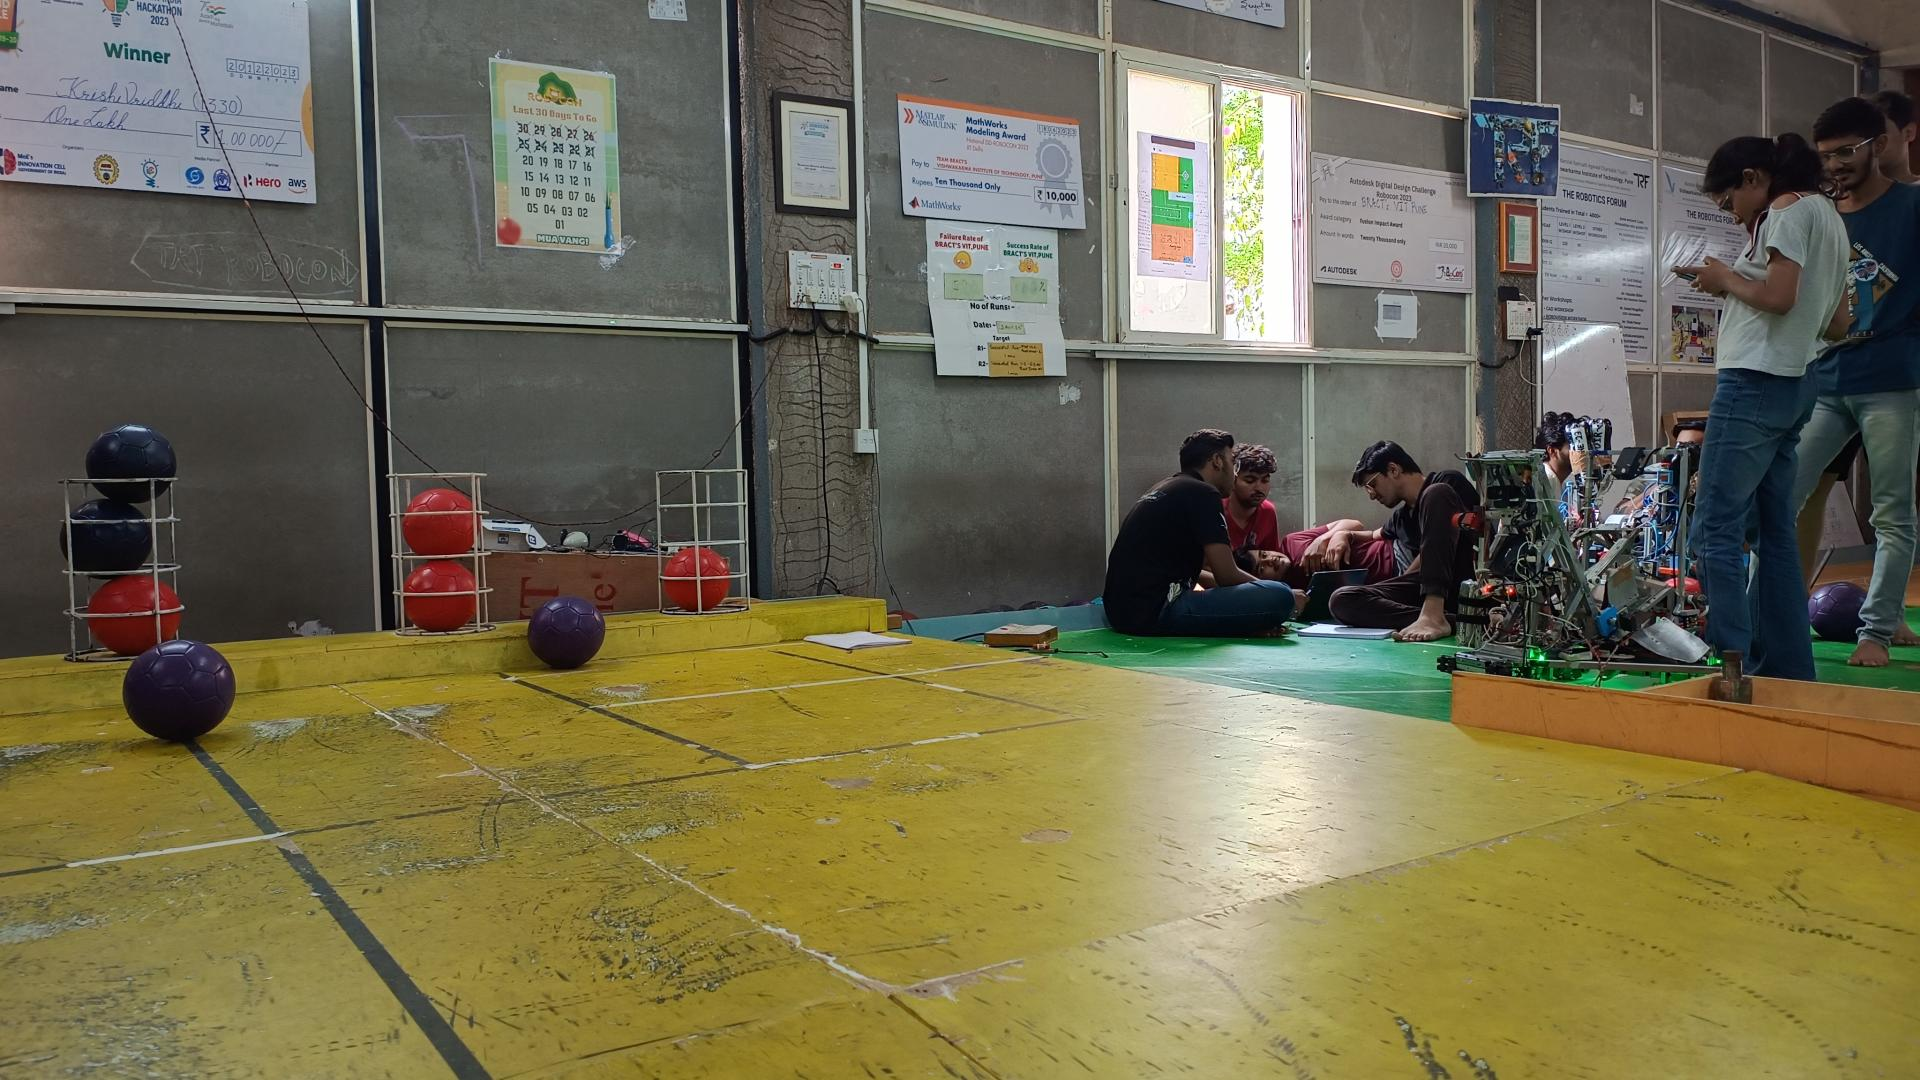dhoka: (86, 423, 177, 502), (61, 498, 154, 574)
laale: (86, 574, 179, 657), (405, 559, 476, 634), (401, 488, 476, 555), (663, 547, 732, 612)
